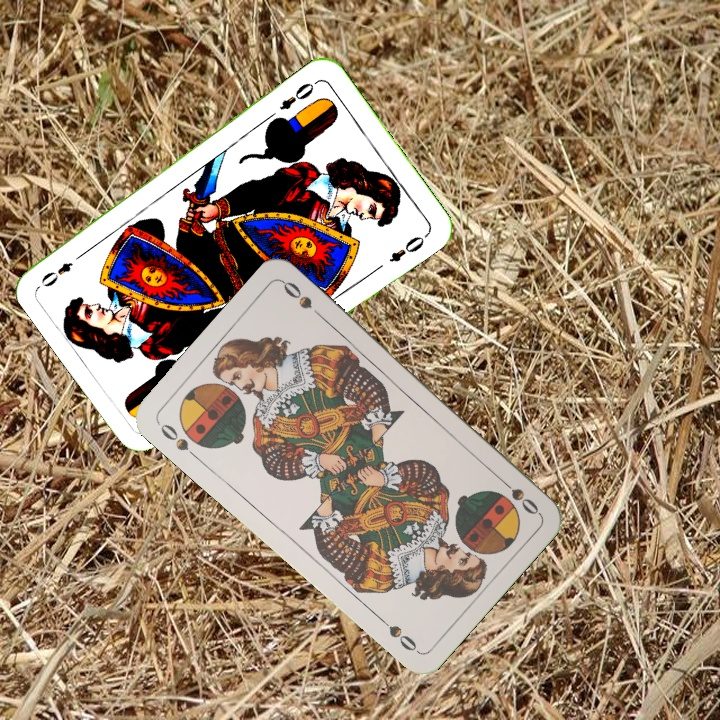EO: (275, 76, 321, 113)
SO: (493, 472, 542, 518), (154, 419, 202, 463)
